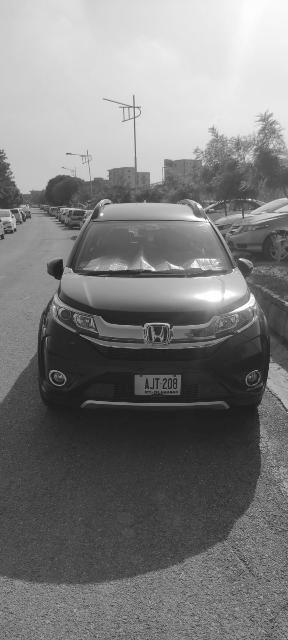Number: (143, 376, 178, 390)
